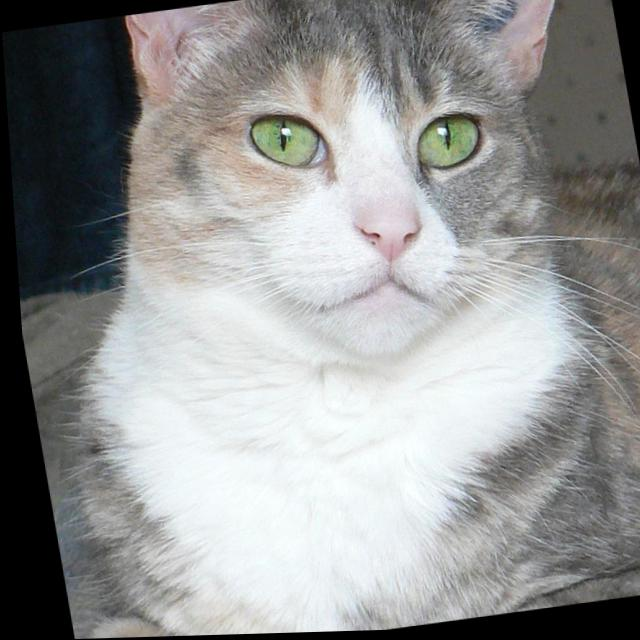animals: (129, 0, 597, 289)
